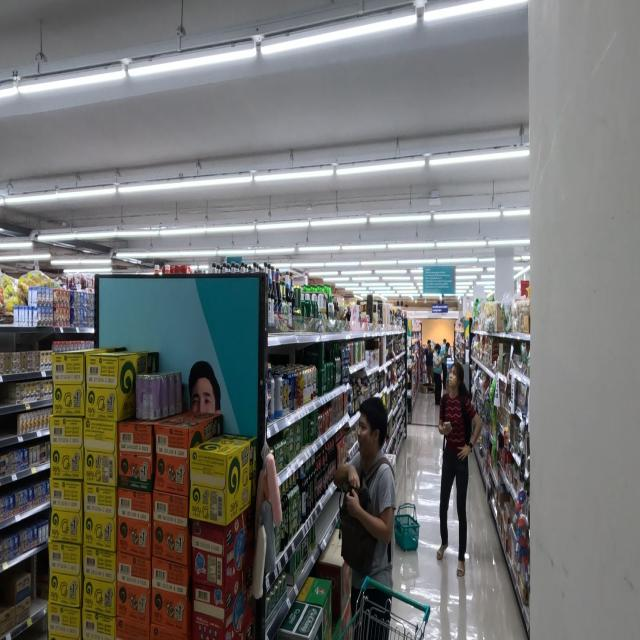shoplifting: (332, 395, 396, 640)
